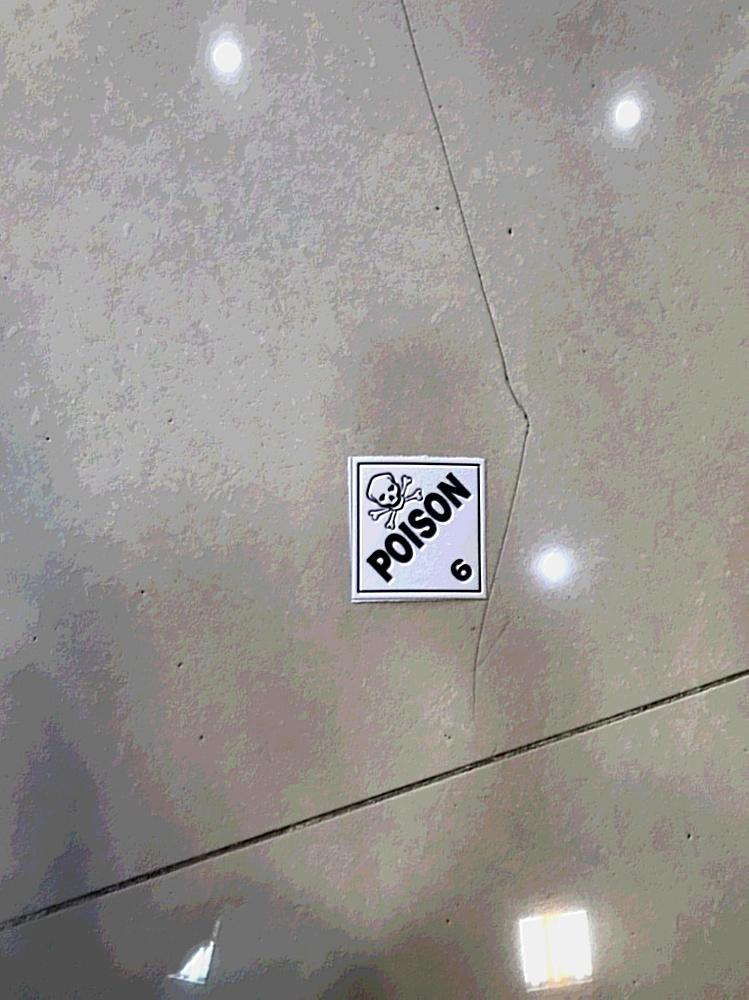poison: (348, 452, 489, 606)
